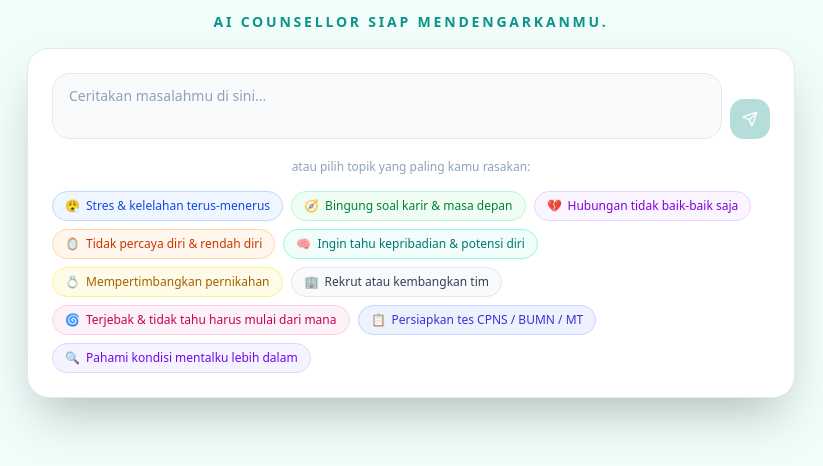
it: PsikotesDiagnostic › renders product recommendations from API
The width and height of the screenshot is (823, 466).
Click the text "Stres & kelelahan terus-menerus": (178, 206) [86,198,270,214]
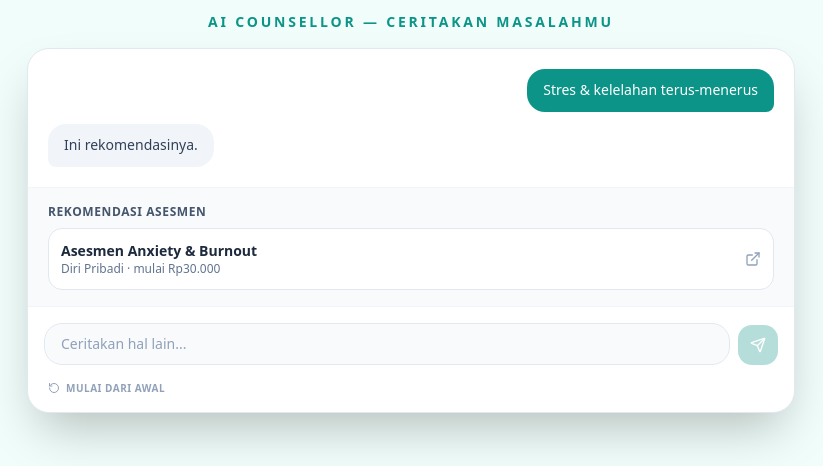
Result: the text "Asesmen Anxiety & Burnout" is shown at [61,240,257,260]
Result: the text "Diri Pribadi · mulai Rp30.000" is shown at [61,260,220,276]
